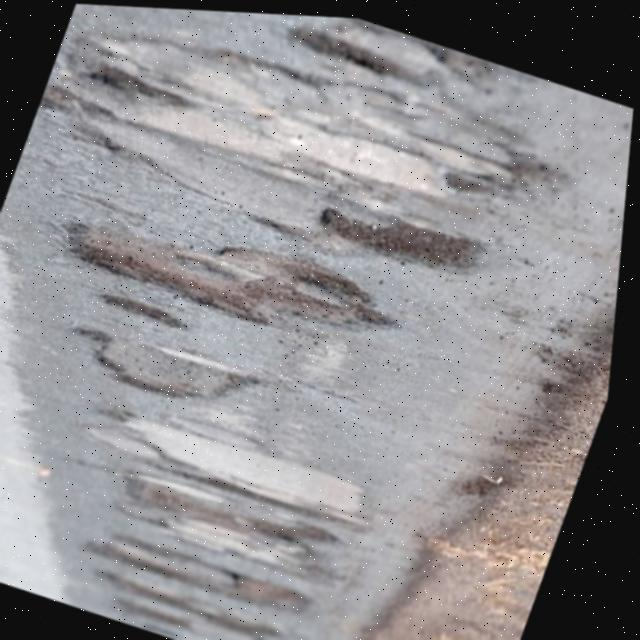Pothole: (20, 128, 472, 394), (68, 372, 412, 549), (105, 451, 375, 599), (81, 503, 348, 640), (45, 294, 297, 438), (303, 170, 514, 304), (101, 556, 304, 640), (422, 114, 578, 222), (56, 30, 204, 135), (286, 12, 447, 98), (406, 33, 509, 103), (33, 77, 120, 144)
